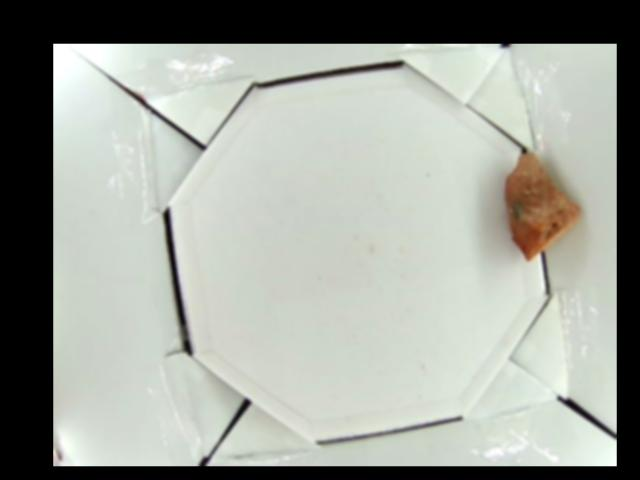Brisk: (505, 153, 577, 260)
